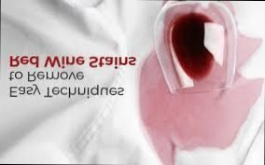wine: (138, 61, 260, 160), (234, 29, 257, 74)
